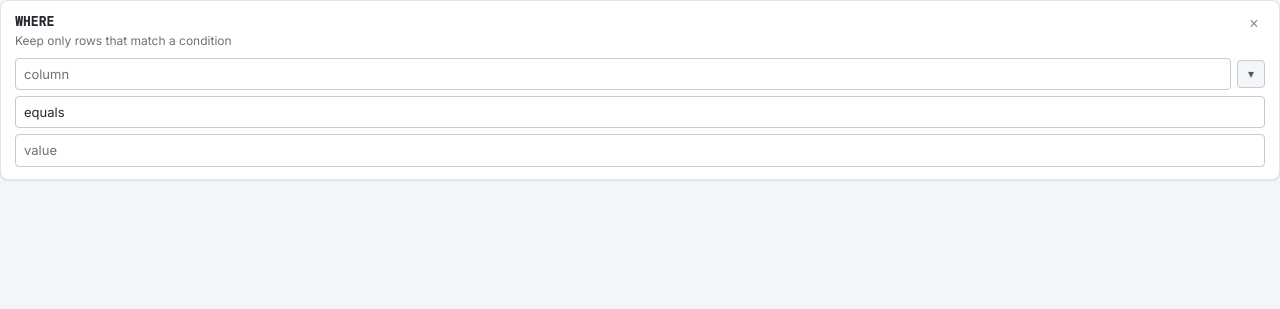
ClauseCard › WHERE column popover needs FROM message when from unset
Click the button with test id "visualQuery.whereColumnPicker": click(1251, 74) [1237,60,1265,88]
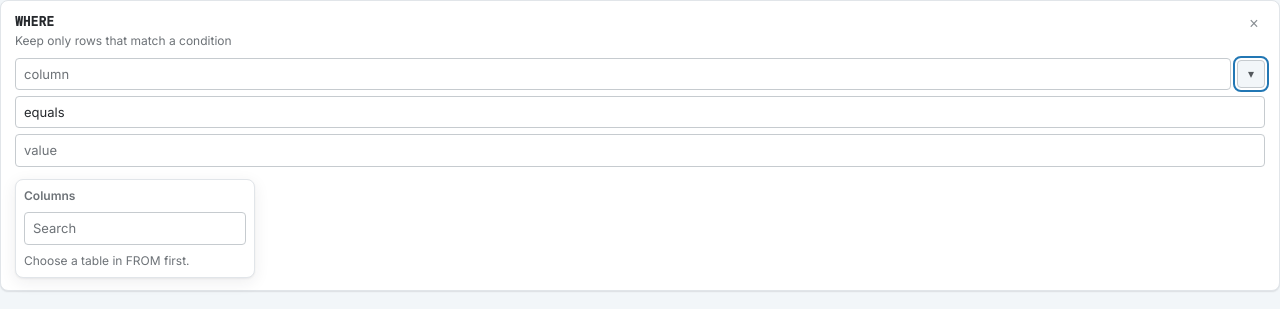
Now the text "Choose a table in FROM first." is shown, box [24,252,190,268]
